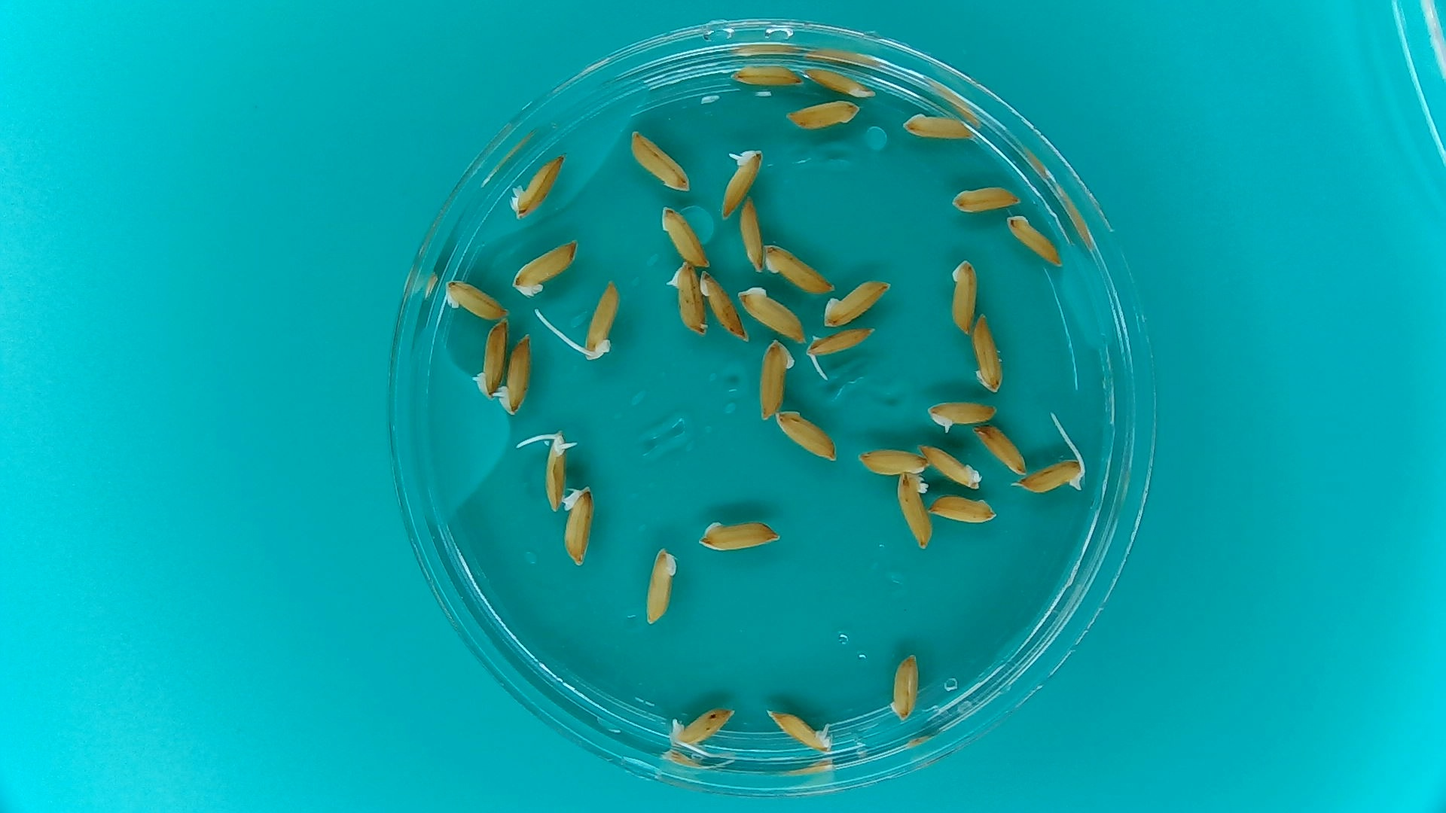no: (757, 242, 839, 297), (508, 239, 579, 302), (652, 204, 718, 271), (737, 285, 808, 347), (697, 268, 750, 348), (627, 129, 693, 193), (505, 152, 566, 221), (819, 279, 893, 330), (664, 260, 709, 340), (968, 313, 1011, 394), (755, 339, 796, 422), (912, 441, 981, 490), (775, 410, 837, 464), (1002, 215, 1065, 268), (969, 424, 1029, 478), (694, 518, 786, 553), (894, 470, 934, 550), (560, 486, 598, 569), (798, 65, 882, 100), (471, 319, 507, 400), (441, 279, 513, 319), (945, 256, 980, 337), (782, 99, 865, 132), (644, 546, 677, 624), (898, 111, 973, 145), (856, 447, 931, 478), (925, 495, 999, 525), (889, 653, 920, 724), (950, 185, 1023, 214), (727, 65, 804, 92), (739, 196, 765, 274)
yes: (485, 336, 537, 419), (760, 705, 835, 758), (718, 146, 766, 218), (668, 706, 738, 751), (1009, 455, 1087, 495), (582, 282, 619, 363), (924, 401, 999, 437), (806, 324, 872, 359), (541, 437, 571, 513)
